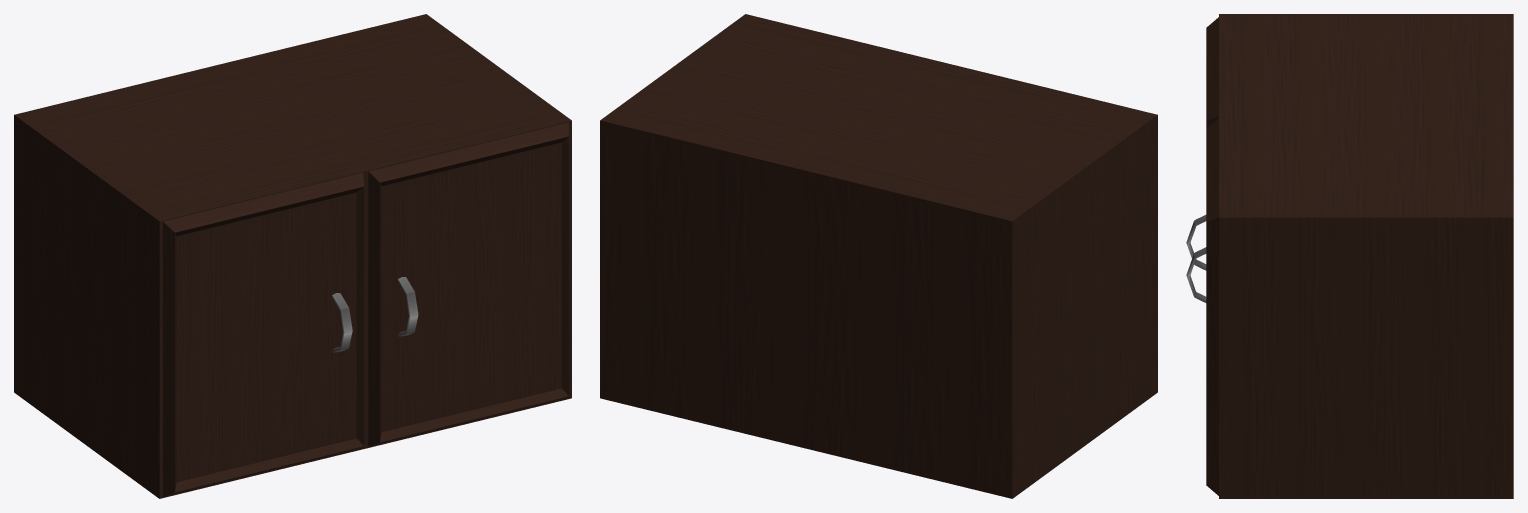
Rendered from Open_Cabinet_A_3.FBX.
3 renders of one model, left to right at view 1: azimuth 30°, elevation 25°; view 2: azimuth 150°, elevation 25°; view 3: azimuth 270°, elevation 25°, orthographic.
Visible parts, largest first — view 1: Cabinet_Open_A, Door, Door001; view 2: Cabinet_Open_A; view 3: Cabinet_Open_A, Door, Door001.
Part boxes in pixels (left/top/right/bottom): Cabinet_Open_A: left=14, top=14, right=571, bottom=498; Door: left=368, top=123, right=568, bottom=446; Door001: left=163, top=173, right=363, bottom=496; Cabinet_Open_A: left=600, top=14, right=1157, bottom=498; Cabinet_Open_A: left=1219, top=14, right=1513, bottom=498; Door: left=1186, top=119, right=1218, bottom=495; Door001: left=1186, top=17, right=1218, bottom=270.
Size of the model in its own units: 127 by 81.56 by 86.01.
